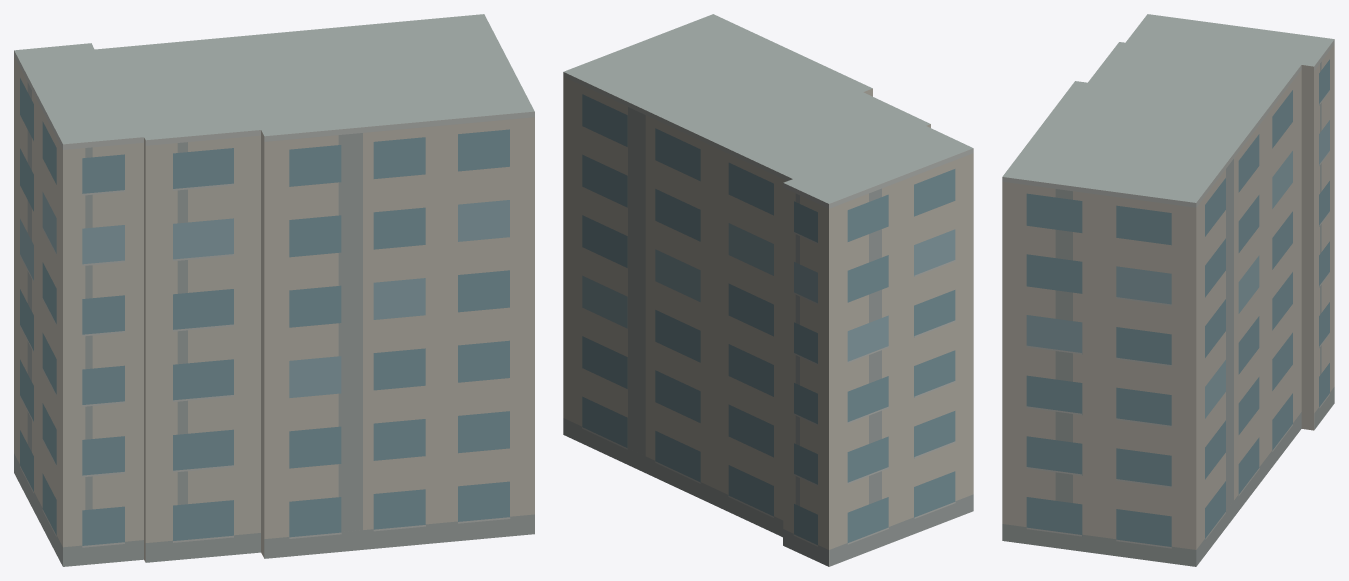
Rendered from survey-upis-32599950.glb.
3 views of the same model, side by side, from view 1: azimuth 30°, elevation 25°; view 2: azimuth 150°, elevation 25°; view 3: azimuth 270°, elevation 25° (orthographic). The views are drawn at different scales.
Visible parts, largest first — view 1: survey-upis-32599950.tmp; view 2: survey-upis-32599950.tmp; view 3: survey-upis-32599950.tmp.
Boxes of the visible parts, left/top/right/bottom form: survey-upis-32599950.tmp: left=14, top=14, right=534, bottom=566; survey-upis-32599950.tmp: left=563, top=14, right=973, bottom=566; survey-upis-32599950.tmp: left=1002, top=14, right=1334, bottom=566.
Bounding box in the file's own units: 20.38 × 18.3 × 15.16.
